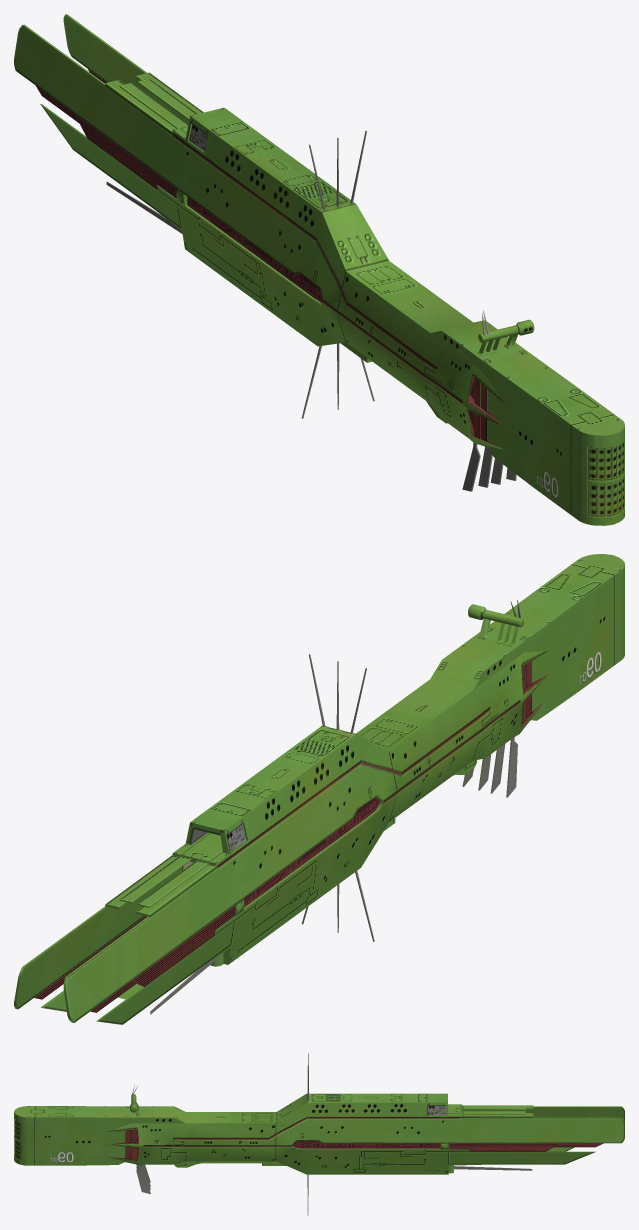
File: FPA_CommandShip_Palamedes.obj
3 views of the same model, one above another, from view 1: azimuth 30°, elevation 25°; view 2: azimuth 150°, elevation 25°; view 3: azimuth 270°, elevation 25° (orthographic). The views are drawn at different scales.
Parts seen in each view (by area): view 1: FPA_CommandShip_Palamedes; view 2: FPA_CommandShip_Palamedes; view 3: FPA_CommandShip_Palamedes.
Boxes of the visible parts, x1,y1,x2,y2 form: FPA_CommandShip_Palamedes: (14, 14, 624, 525); FPA_CommandShip_Palamedes: (14, 554, 624, 1024); FPA_CommandShip_Palamedes: (14, 1053, 624, 1215).
Bounding box in the file's own units: 68.12 × 243 × 927.
